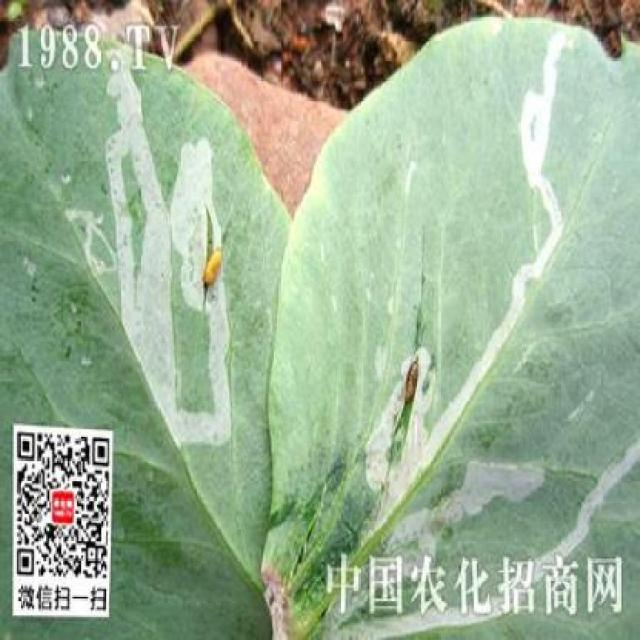whorl-maggot: (200, 235, 225, 303), (402, 346, 424, 412)
